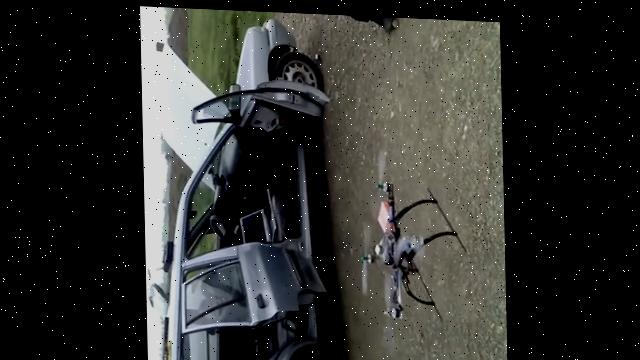drone: (354, 146, 466, 359)
